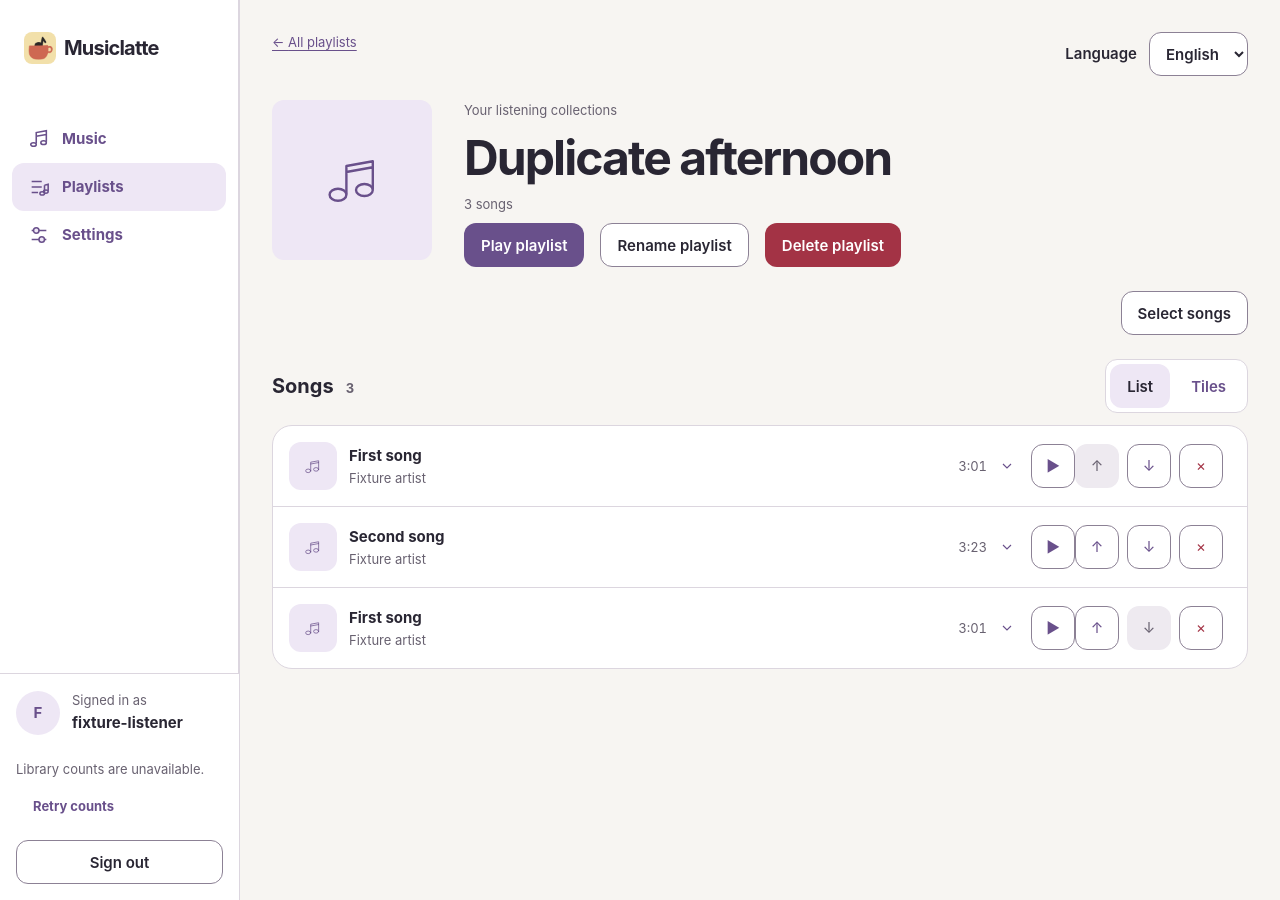
Test case: playlist occurrence editing › should show the authoritative conflict snapshot with an explicit refresh action
Click the button named "Move First song at position 3 up": x=1097, y=628 [1075, 606, 1119, 650]
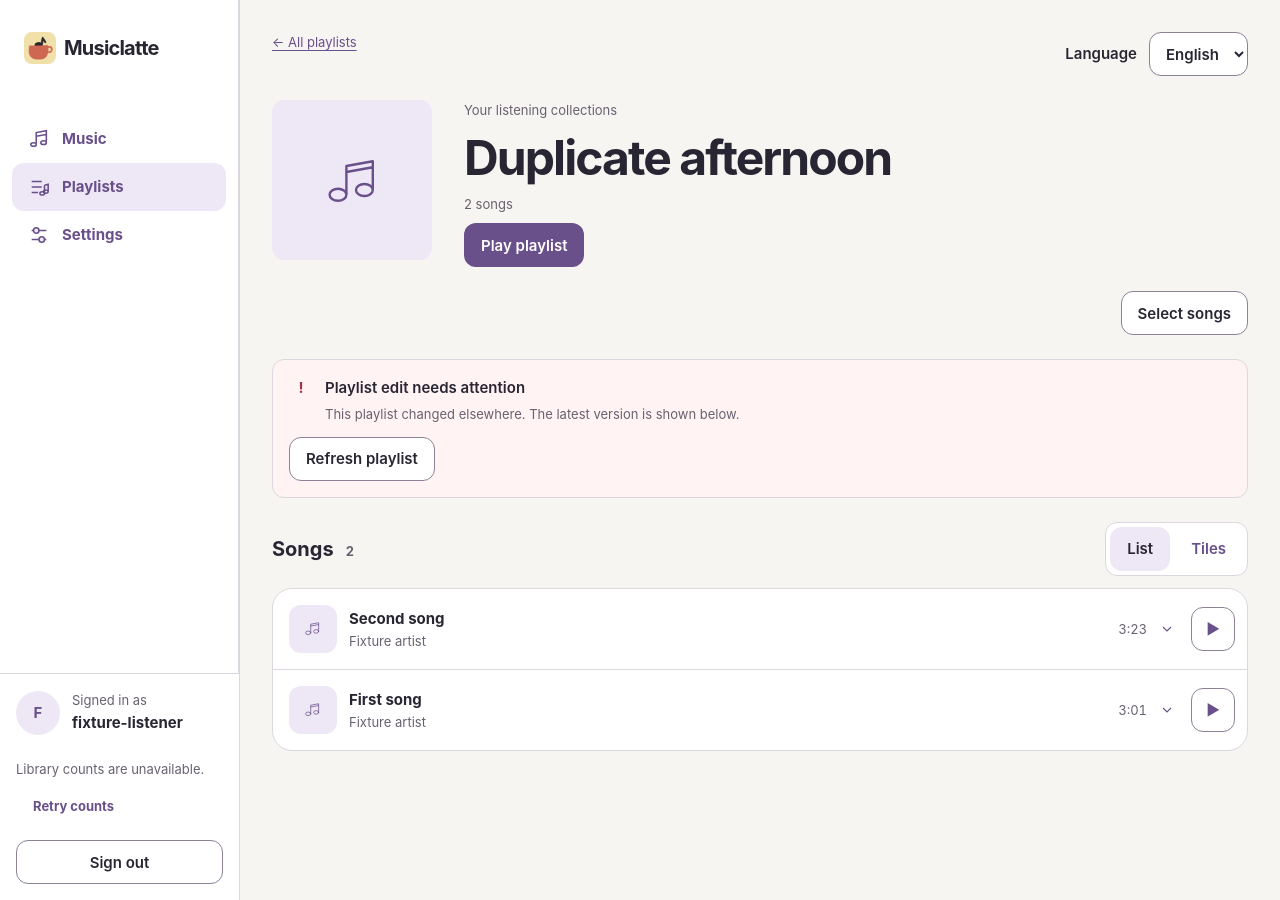
Check: the text "changed elsewhere" is shown, box [325, 406, 740, 422]
Check: the button "Refresh playlist" is shown, box [289, 437, 435, 481]
